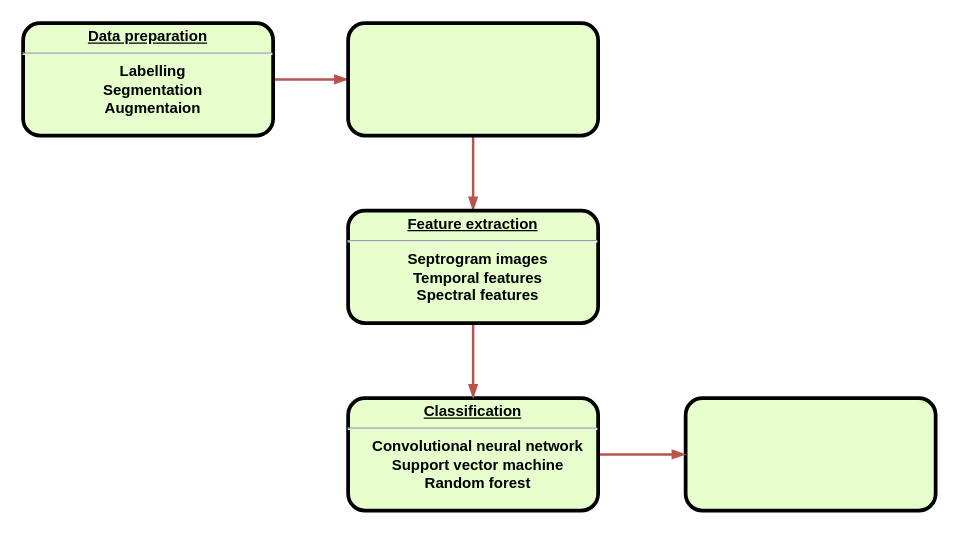
The diagram is 959 pixels wide and 534 high, and some of its shapes have lost their labels. The box of each missing label's shape, as (x1, y1, x2, y2) in pixels:
Estimation Respiratory phase Respiratory frequency: (683, 396, 937, 512)
Pre-processing Band pass filter Emphasising Normalisation: (346, 21, 599, 137)
